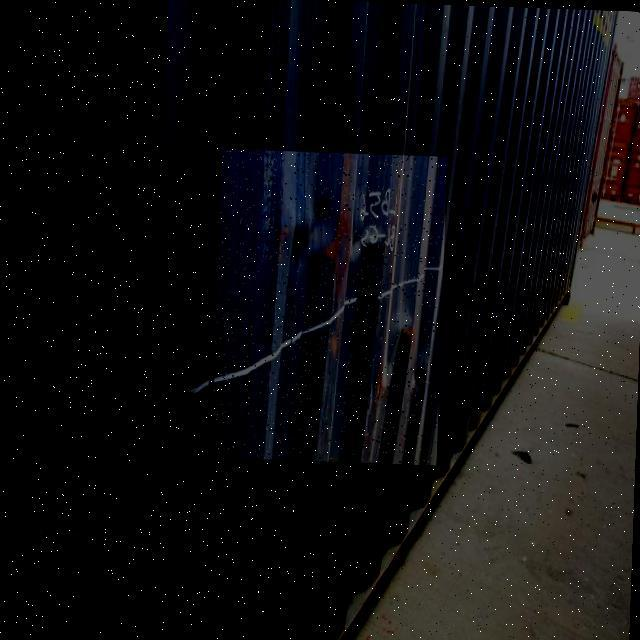Dent: (211, 149, 447, 466)
